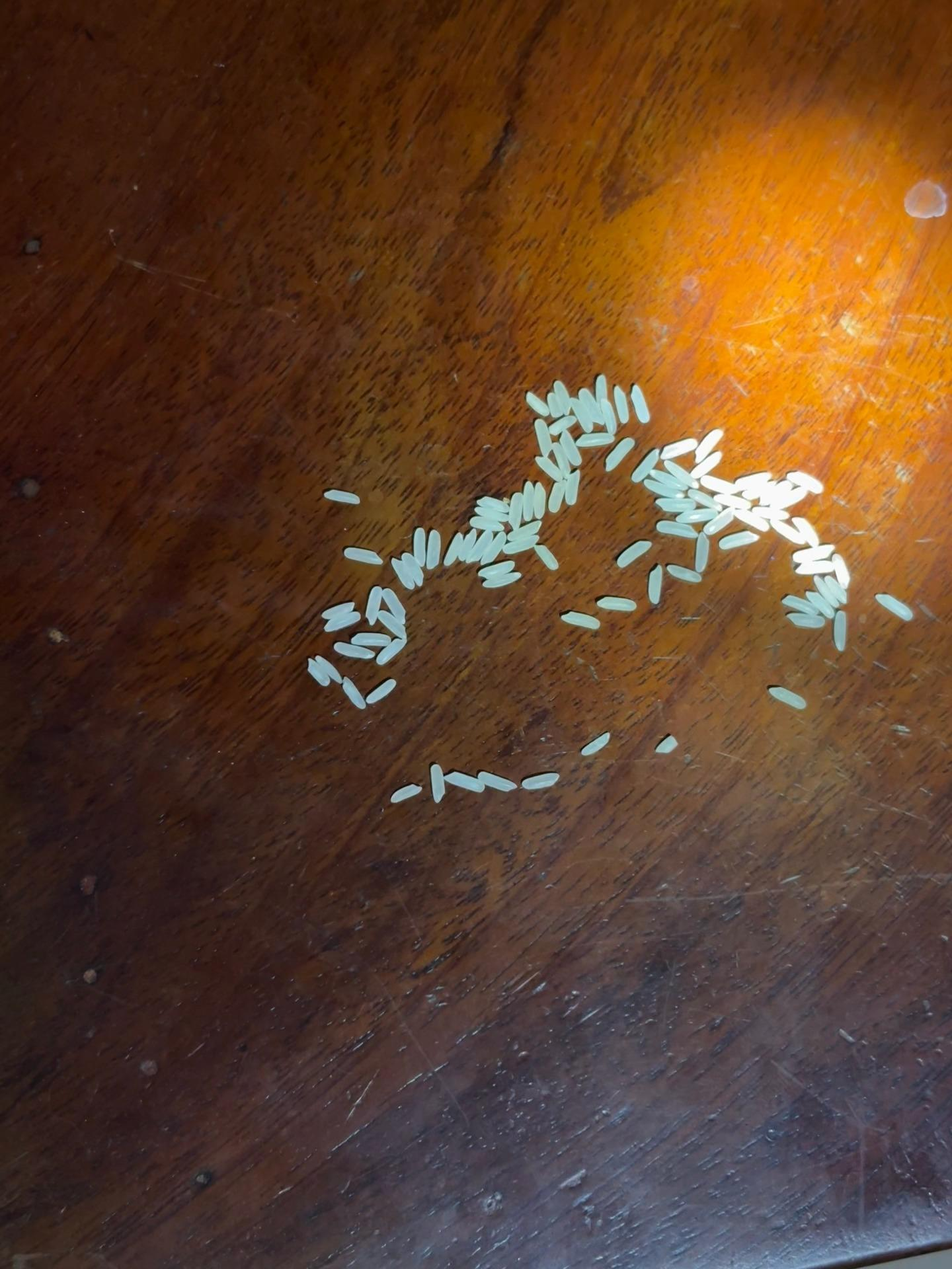Rice-th-y-nh: (631, 449, 660, 484), (694, 429, 723, 464), (615, 541, 652, 567), (876, 594, 913, 620), (579, 389, 605, 426), (605, 438, 634, 471), (445, 771, 485, 794), (770, 519, 805, 545), (770, 487, 808, 510), (704, 507, 734, 536), (467, 531, 493, 564), (383, 589, 406, 626), (378, 610, 407, 639), (792, 517, 820, 547), (691, 452, 722, 479), (664, 460, 695, 487), (787, 471, 823, 494), (481, 532, 506, 565), (759, 481, 792, 506), (477, 771, 516, 792), (769, 687, 806, 709), (376, 638, 406, 665), (813, 576, 839, 607), (783, 595, 819, 617), (806, 591, 834, 619), (793, 544, 834, 563), (734, 509, 769, 531), (560, 431, 582, 466), (571, 398, 593, 433), (342, 677, 366, 709), (391, 558, 415, 590), (562, 610, 600, 630), (661, 438, 697, 459), (316, 655, 342, 684), (688, 489, 722, 511), (631, 385, 650, 424), (644, 479, 683, 498), (324, 612, 361, 632), (334, 642, 375, 660), (651, 470, 686, 491), (508, 520, 541, 542), (402, 553, 424, 586), (367, 679, 396, 704), (535, 456, 563, 481), (656, 521, 697, 538), (716, 493, 752, 512), (484, 571, 522, 589), (735, 472, 771, 491), (667, 564, 701, 584), (831, 555, 851, 589), (504, 536, 539, 555), (701, 475, 736, 494), (344, 547, 383, 564), (786, 612, 825, 629), (581, 733, 611, 755), (552, 444, 572, 477), (720, 531, 756, 549), (824, 576, 848, 603), (429, 764, 446, 802), (307, 659, 330, 687), (479, 561, 514, 579), (535, 419, 552, 456), (522, 773, 559, 790), (598, 596, 637, 612), (656, 497, 695, 513), (350, 632, 391, 647), (366, 587, 382, 625), (390, 784, 422, 803), (565, 470, 582, 505), (322, 602, 355, 620), (797, 559, 834, 575), (508, 493, 524, 530), (444, 534, 463, 565), (678, 508, 717, 523), (833, 612, 848, 651), (548, 481, 566, 513), (535, 545, 558, 570), (648, 565, 663, 603), (695, 533, 709, 573), (614, 386, 629, 423), (752, 506, 789, 521), (426, 531, 441, 568), (526, 392, 549, 416), (477, 496, 509, 513), (460, 529, 477, 561), (601, 401, 617, 435), (549, 416, 575, 436), (413, 528, 427, 565), (325, 490, 360, 504), (576, 433, 613, 446), (554, 382, 570, 412), (743, 483, 768, 501), (470, 517, 502, 531), (475, 507, 506, 521), (534, 483, 546, 519), (523, 482, 534, 520), (547, 393, 562, 418), (655, 736, 677, 753), (595, 375, 607, 403)
